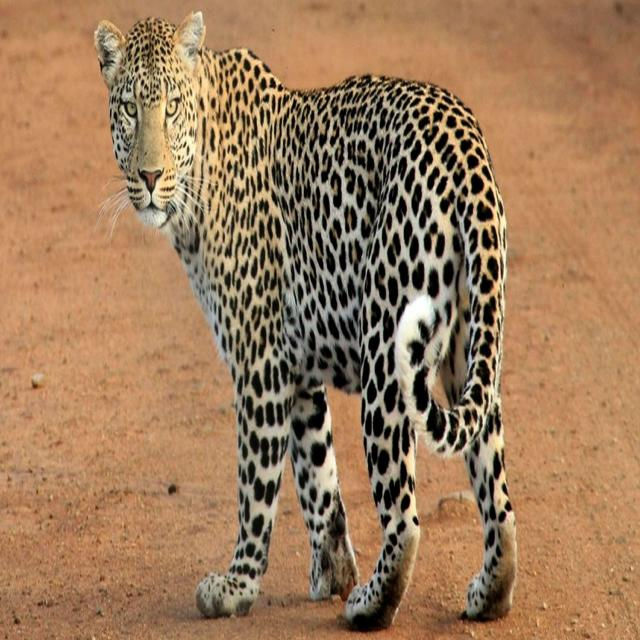Leopard: (94, 8, 517, 618)
